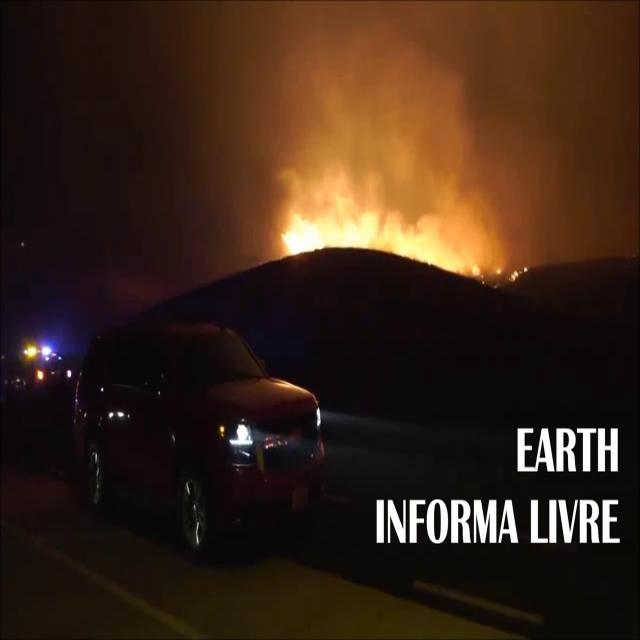Fire: (252, 144, 528, 292)
Smoke: (301, 0, 601, 217)
